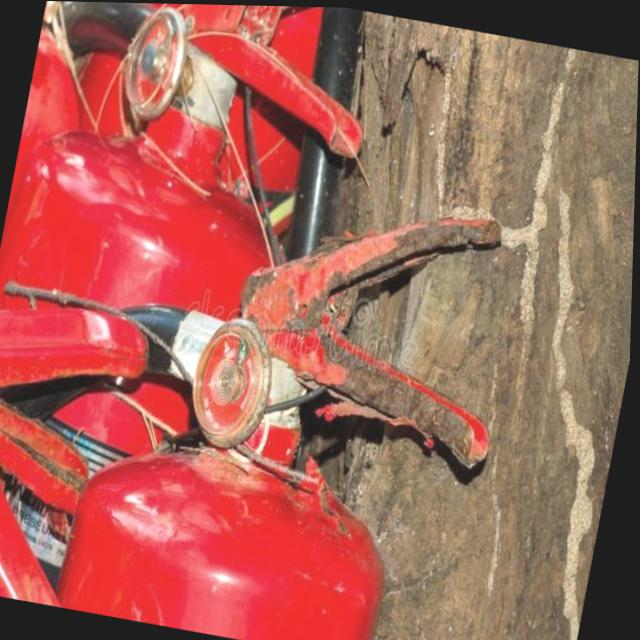FireExtinguisher: (0, 125, 539, 640), (0, 0, 392, 640)
